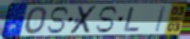I: (154, 5, 168, 33)
L: (123, 6, 142, 33)
O: (23, 5, 49, 35)
S: (46, 6, 71, 35), (95, 5, 119, 34)
X: (68, 5, 99, 35)
